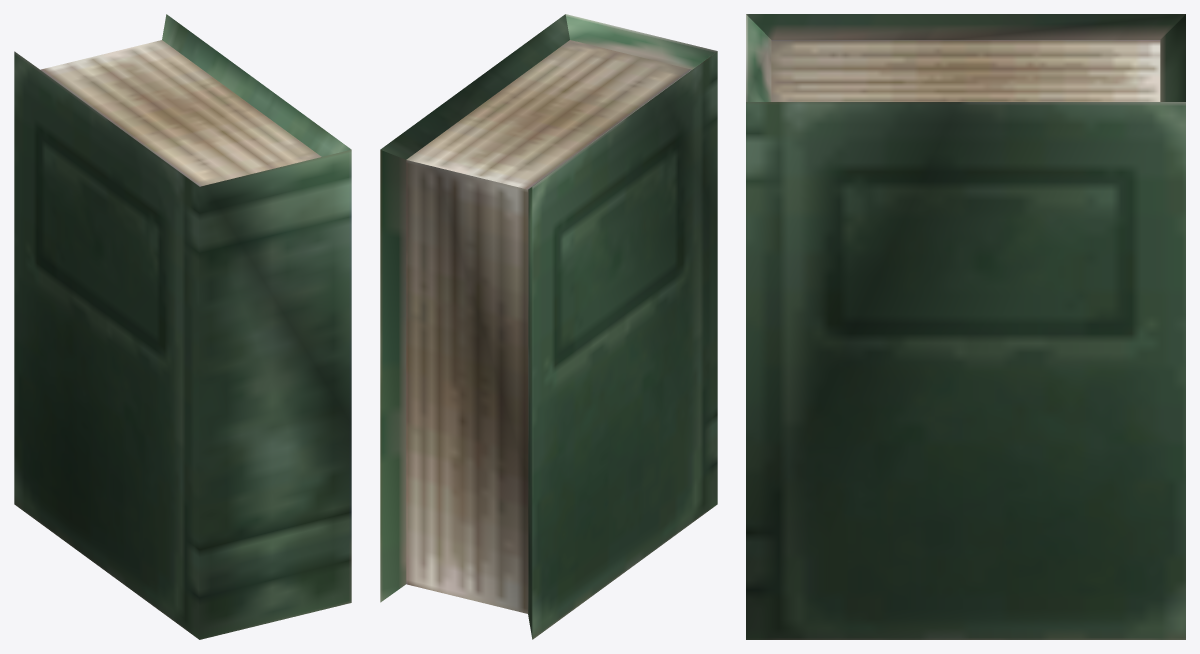
Rendered from bookmedium03.obj.
3 views of the same model, side by side, from view 1: azimuth 30°, elevation 25°; view 2: azimuth 150°, elevation 25°; view 3: azimuth 270°, elevation 25° (orthographic). The views are drawn at different scales.
Parts seen in each view (by area): view 1: bookmedium03.m2; view 2: bookmedium03.m2; view 3: bookmedium03.m2.
Boxes of the visible parts, x1,y1,x2,y2 form: bookmedium03.m2: (14, 14, 351, 639); bookmedium03.m2: (380, 14, 717, 639); bookmedium03.m2: (746, 14, 1185, 639).
Bounding box in the file's own units: 0.2122 × 0.6038 × 0.4477.
1 material, 1 textured.
